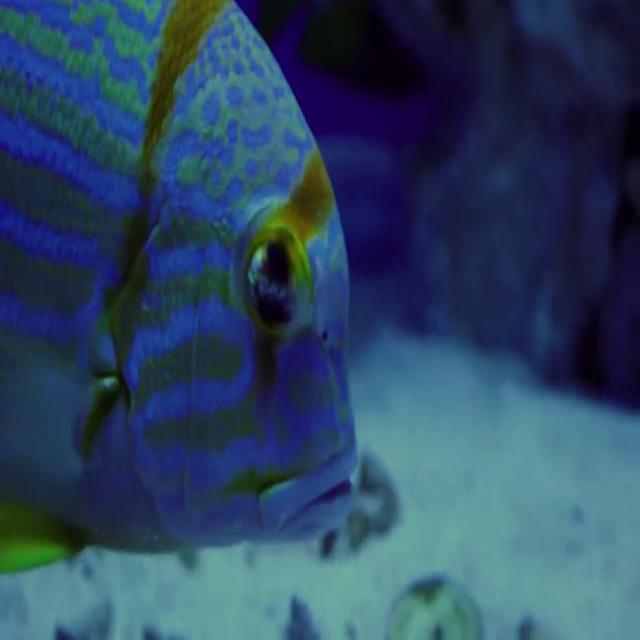fish: (0, 0, 352, 588)
